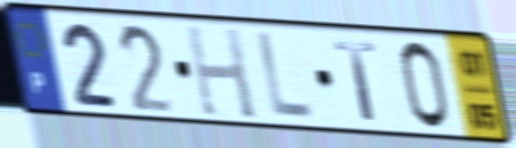0: (398, 39, 452, 131)
2: (56, 15, 125, 111), (115, 21, 176, 114)
H: (182, 22, 260, 123)
L: (254, 28, 316, 124)
T: (330, 38, 382, 124)
